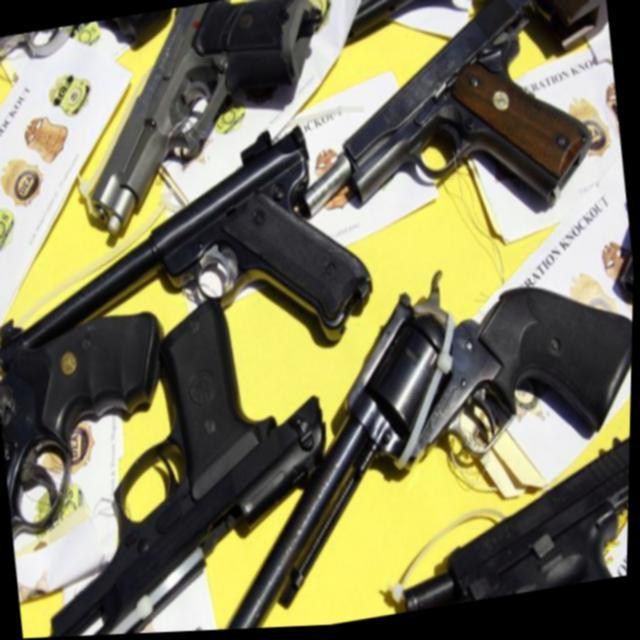weapon: (162, 240, 636, 634), (6, 282, 352, 640), (0, 114, 382, 396), (65, 0, 353, 239), (0, 293, 187, 563), (384, 437, 632, 618), (0, 10, 176, 72)
